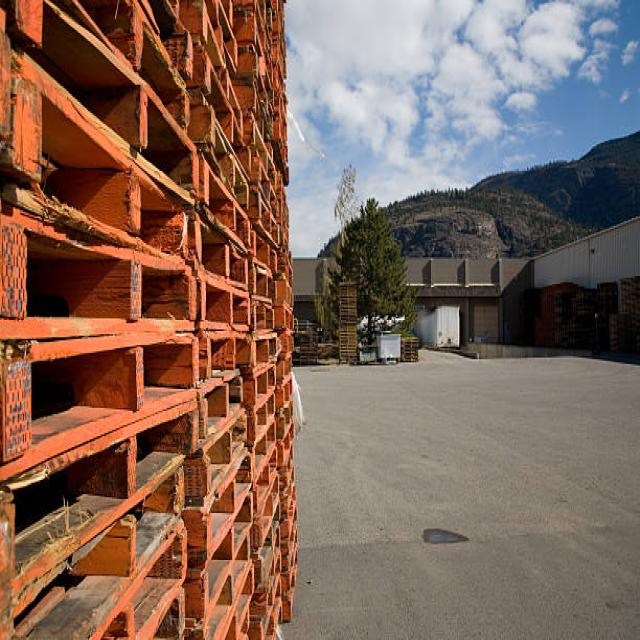Wooden-Pallets: (8, 51, 188, 298), (2, 325, 201, 475), (0, 211, 198, 327), (205, 489, 253, 625), (197, 399, 253, 508)
